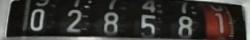digits: (64, 9, 82, 33), (176, 15, 194, 38), (140, 14, 157, 37), (103, 12, 119, 34), (30, 8, 44, 30), (214, 12, 226, 36)
